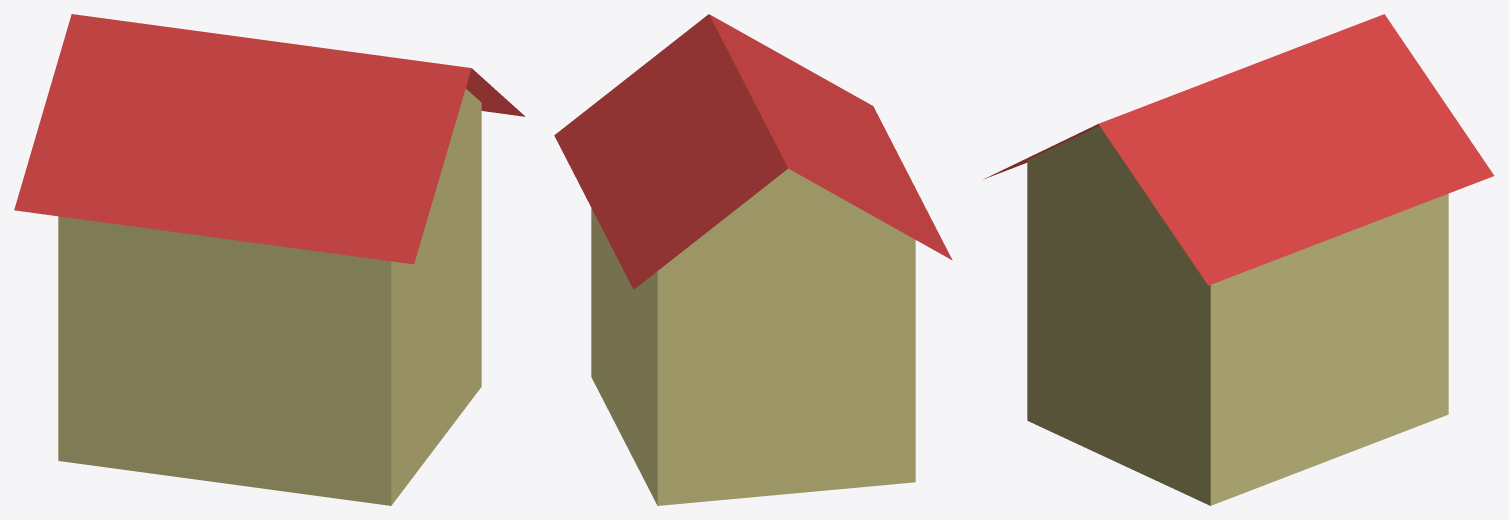
The picture shows the model from 3 angles, left to right: view 1: azimuth 30°, elevation 25°; view 2: azimuth 150°, elevation 25°; view 3: azimuth 270°, elevation 25°; orthographic projection. The views are drawn at different scales.
Size of the model in its own units: 15.75 by 15.85 by 11.94.
